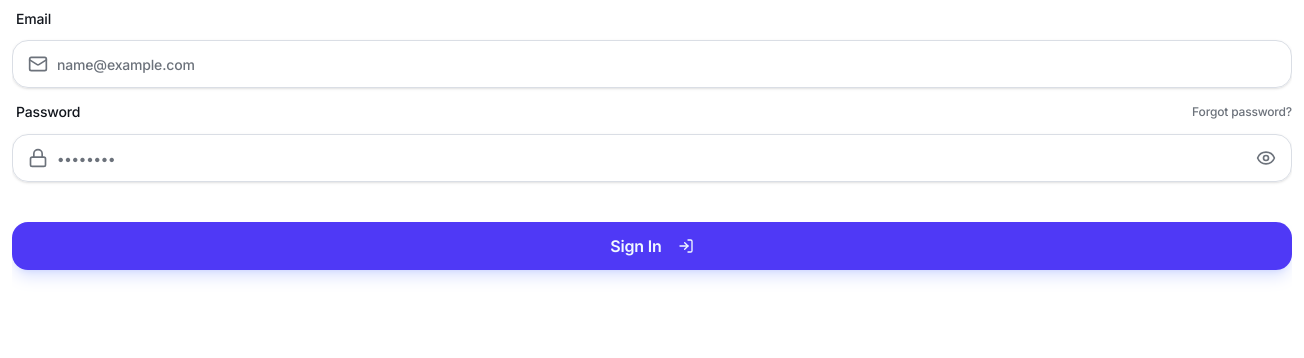
Test case: LoginForm Component › shows validation errors for empty fields
Step 1. Click the button "Sign In" → {"x": 652, "y": 246}, box [12, 222, 1292, 270]
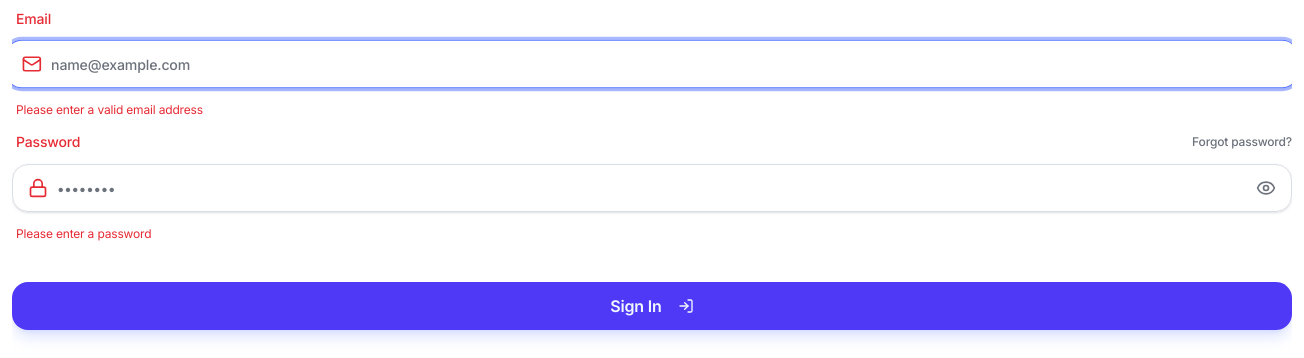
Result: the text "Please enter a valid email address" is shown at [16, 102, 203, 117]
Result: the text "Please enter a password" is shown at [16, 226, 151, 241]
